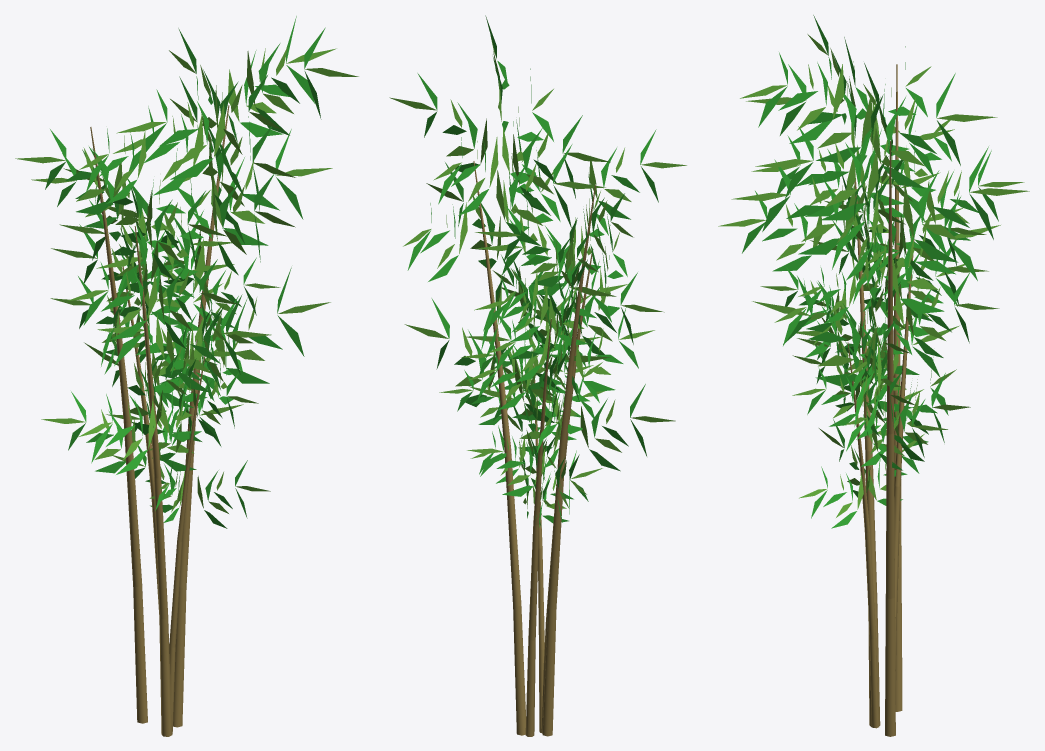
The model's file is bamboo.obj.
3 renders of one model, left to right at view 1: azimuth 30°, elevation 25°; view 2: azimuth 150°, elevation 25°; view 3: azimuth 270°, elevation 25°, orthographic. The views are drawn at different scales.
Parts seen in each view (by area): view 1: Mesh545 Bamboo_Shoot5 Model, Mesh82 Bamboo_Shoot1 Bamboo_Tree_Section1 Model, Mesh535 Bamboo_Shoot4 Model, Mesh354 Bamboo_Shoot3 Bamboo_Tree_Section3 Model, Mesh218 Bamboo_Shoot2 Bamboo_Tree_Section2 Model; view 2: Mesh545 Bamboo_Shoot5 Model, Mesh535 Bamboo_Shoot4 Model, Mesh218 Bamboo_Shoot2 Bamboo_Tree_Section2 Model, Mesh354 Bamboo_Shoot3 Bamboo_Tree_Section3 Model, Mesh82 Bamboo_Shoot1 Bamboo_Tree_Section1 Model; view 3: Mesh535 Bamboo_Shoot4 Model, Mesh82 Bamboo_Shoot1 Bamboo_Tree_Section1 Model, Mesh545 Bamboo_Shoot5 Model, Mesh354 Bamboo_Shoot3 Bamboo_Tree_Section3 Model, Mesh218 Bamboo_Shoot2 Bamboo_Tree_Section2 Model.
Boxes of the visible parts, left/top/right/bottom form: Mesh545 Bamboo_Shoot5 Model: left=90, top=126, right=147, bottom=723; Mesh82 Bamboo_Shoot1 Bamboo_Tree_Section1 Model: left=134, top=225, right=171, bottom=736; Mesh535 Bamboo_Shoot4 Model: left=173, top=105, right=229, bottom=727; Mesh354 Bamboo_Shoot3 Bamboo_Tree_Section3 Model: left=169, top=356, right=205, bottom=734; Mesh218 Bamboo_Shoot2 Bamboo_Tree_Section2 Model: left=121, top=259, right=159, bottom=614; Mesh545 Bamboo_Shoot5 Model: left=542, top=184, right=595, bottom=736; Mesh535 Bamboo_Shoot4 Model: left=473, top=161, right=525, bottom=735; Mesh218 Bamboo_Shoot2 Bamboo_Tree_Section2 Model: left=525, top=318, right=551, bottom=736; Mesh354 Bamboo_Shoot3 Bamboo_Tree_Section3 Model: left=533, top=364, right=544, bottom=732; Mesh82 Bamboo_Shoot1 Bamboo_Tree_Section1 Model: left=541, top=248, right=593, bottom=733; Mesh535 Bamboo_Shoot4 Model: left=885, top=140, right=895, bottom=736; Mesh82 Bamboo_Shoot1 Bamboo_Tree_Section1 Model: left=854, top=169, right=880, bottom=727; Mesh545 Bamboo_Shoot5 Model: left=893, top=64, right=902, bottom=711; Mesh354 Bamboo_Shoot3 Bamboo_Tree_Section3 Model: left=847, top=342, right=879, bottom=728; Mesh218 Bamboo_Shoot2 Bamboo_Tree_Section2 Model: left=894, top=239, right=914, bottom=704.
Size of the model in its own units: 2.99 by 6.93 by 2.7.
